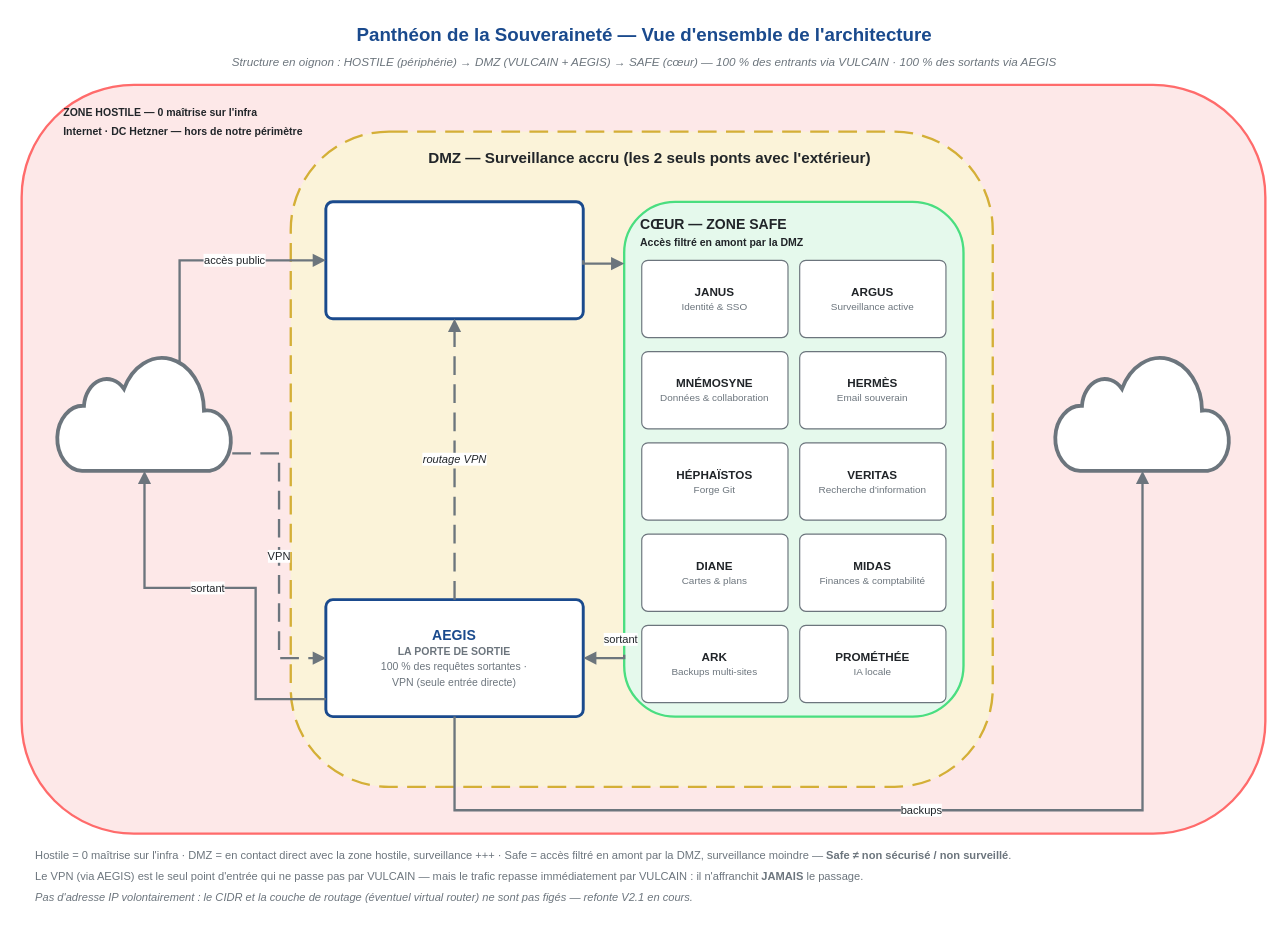
Image size: 1286x925. Some labels were removed from this diagram. Here are the shapes that lost their labels. From the top down, the centre of each, then its label:
[454,260]: VULCAIN LA PORTE D'ENTRÉE 100 % des flux entrants
[144,412]: Internet
[1142,412]: DC Hetzner DE / FI
